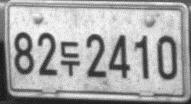0: (156, 35, 178, 80)
1: (134, 34, 150, 81)
2: (85, 32, 108, 78), (36, 32, 58, 76)
4: (108, 34, 131, 79)
8: (13, 31, 35, 75)
두: (59, 40, 81, 77)
